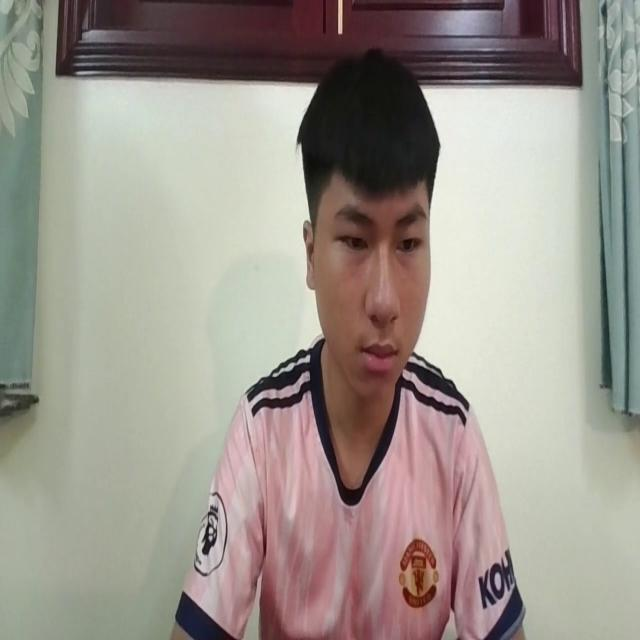student: (166, 48, 528, 640)
